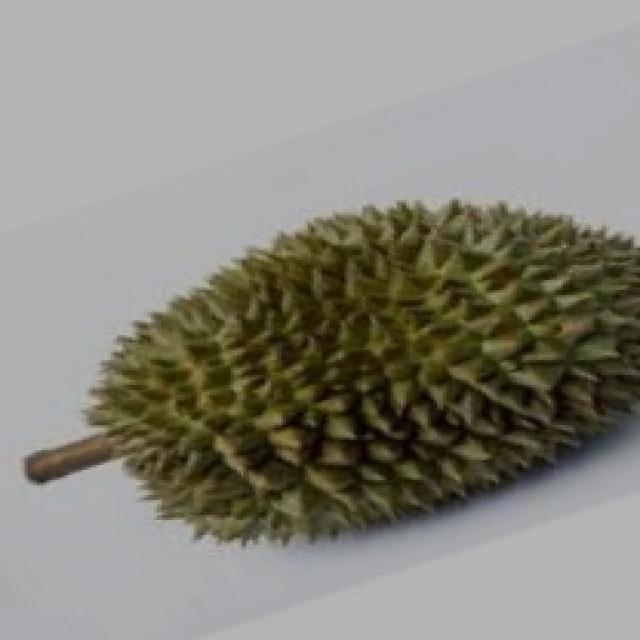fruit: (255, 167, 640, 595), (43, 225, 391, 610)
